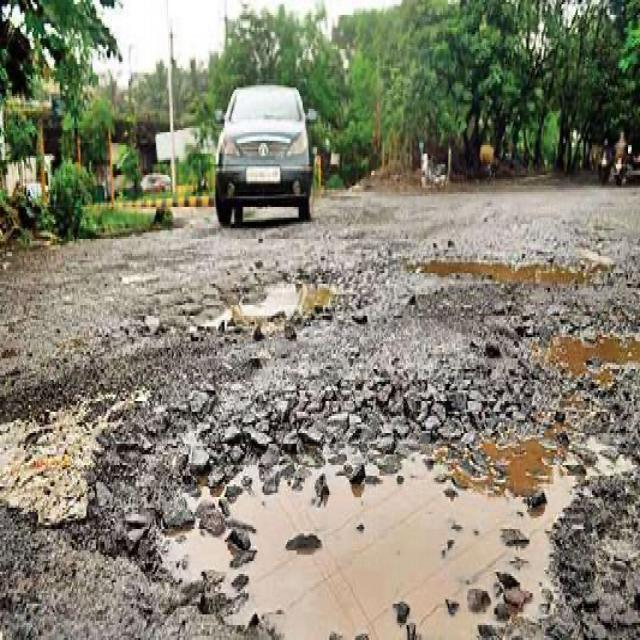pothole: (78, 373, 639, 640), (201, 263, 349, 340), (408, 254, 597, 297), (520, 318, 639, 378)
